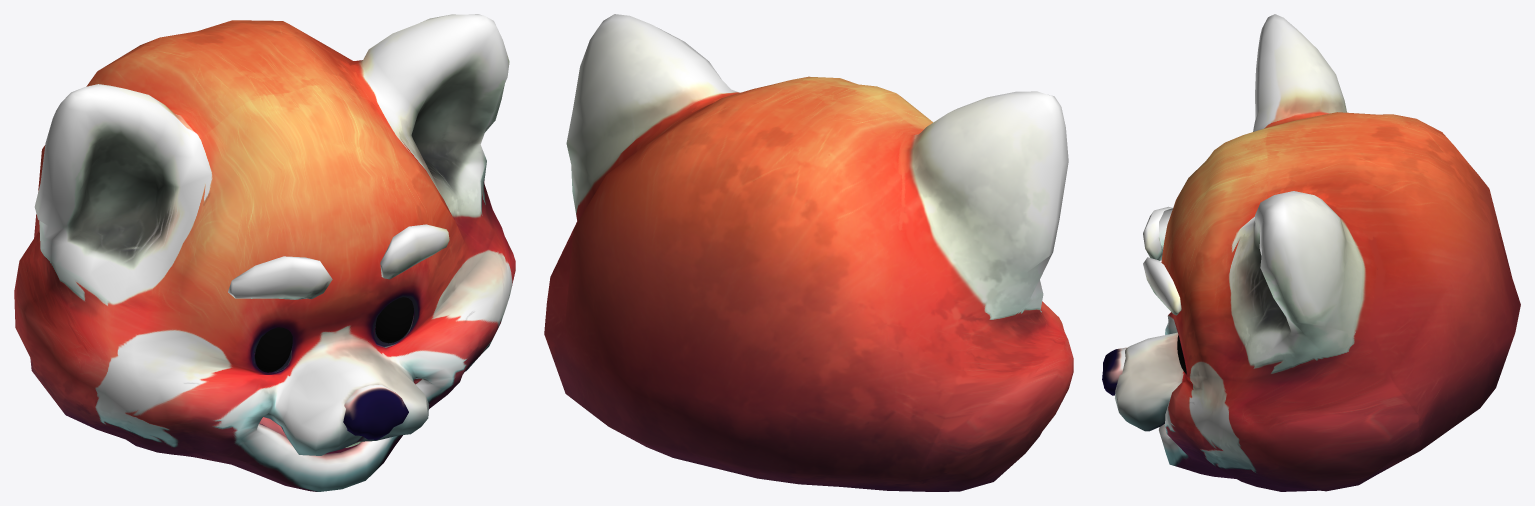
The model's file is Panda.glb.
The picture shows the model from 3 angles, left to right: view 1: azimuth 30°, elevation 25°; view 2: azimuth 150°, elevation 25°; view 3: azimuth 270°, elevation 25°; orthographic projection. The views are drawn at different scales.
Visible parts, largest first — view 1: Panda.001, EyeR, EyeL; view 2: Panda.001; view 3: Panda.001.
Boxes of the visible parts, x1,y1,x2,y2 form: Panda.001: (14, 14, 515, 491); EyeR: (375, 297, 413, 343); EyeL: (255, 327, 292, 372); Panda.001: (544, 14, 1073, 491); Panda.001: (1102, 14, 1520, 491).
Bounding box in the file's own units: 2.41 × 2.11 × 2.18.
Materials: 2 (1 with a texture image).
